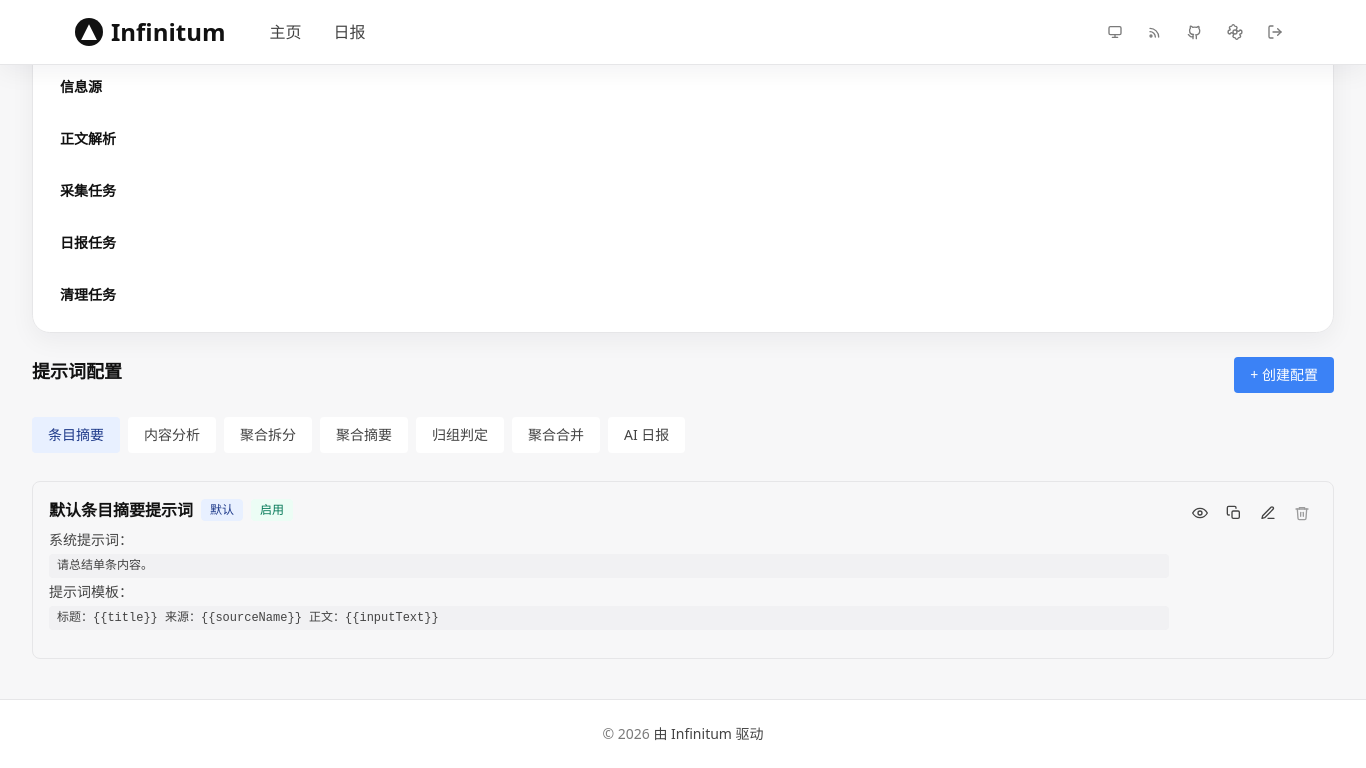
AdminSettingsPanel › keeps prompt advanced settings collapsed when editing existing configs
(page scrolled)
Click the button titled "编辑" at {"x": 1268, "y": 513}, box [1253,498,1283,528]
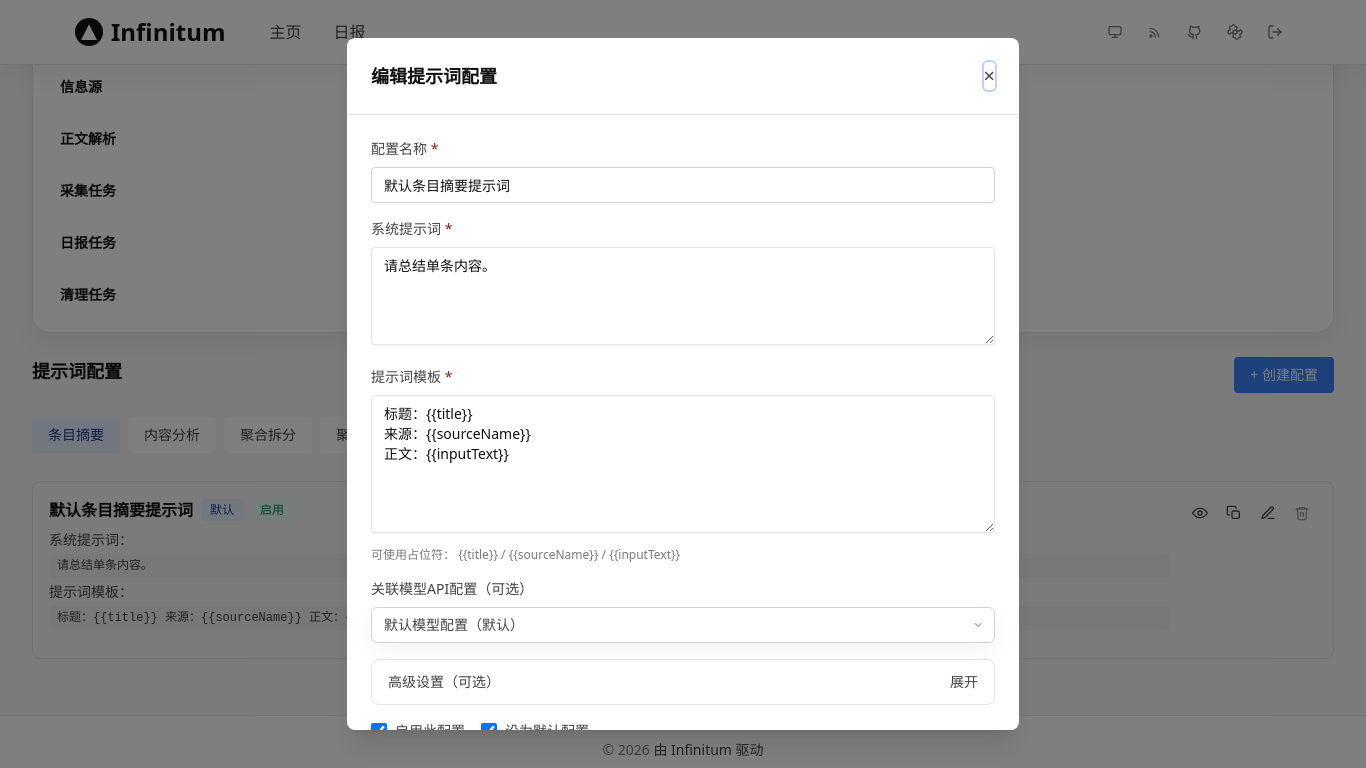
Result: the button "高级设置（可选） 展开" is shown at [372,660,994,704]
